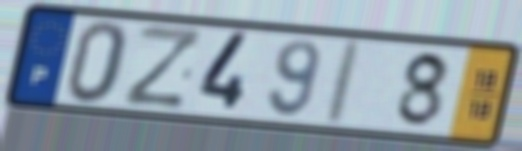0: (64, 18, 131, 107)
4: (196, 28, 253, 119)
8: (392, 50, 452, 130)
9: (264, 38, 324, 119)
I: (319, 35, 366, 129)
Z: (120, 22, 206, 111)
